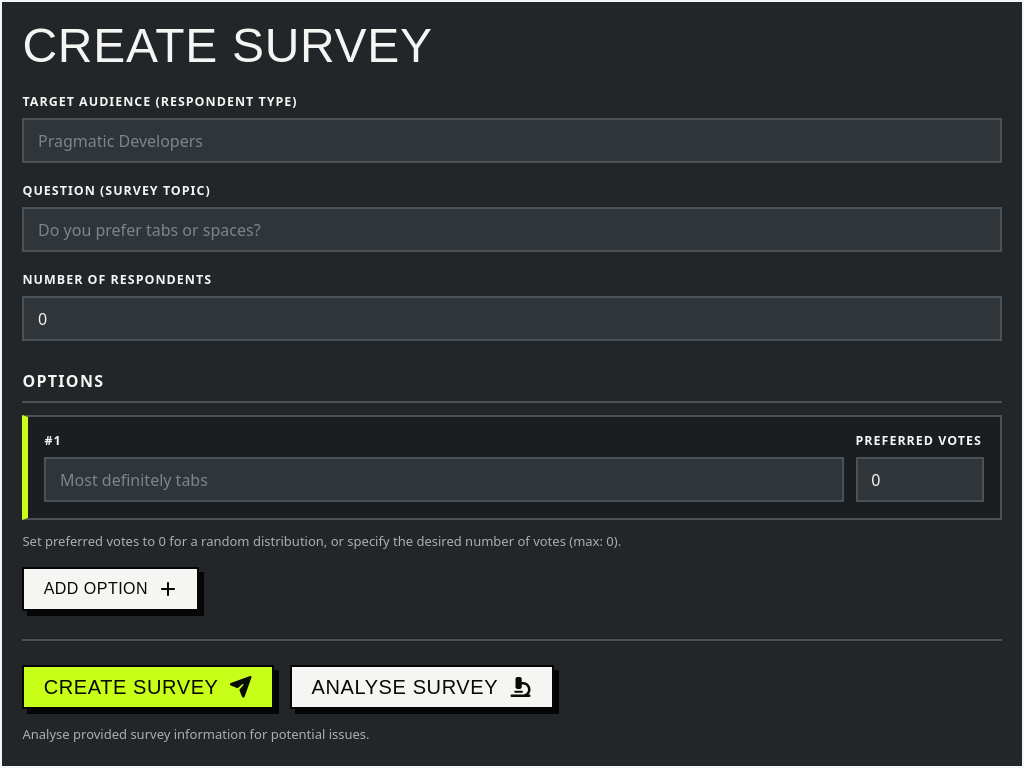
Test: CreateSurvey Component › Form Submission › should show success message on successful submission
The image size is (1024, 768).
Click the button "Create Survey". click: {"x": 148, "y": 687}
box: [22, 665, 274, 709]
(page scrolled)
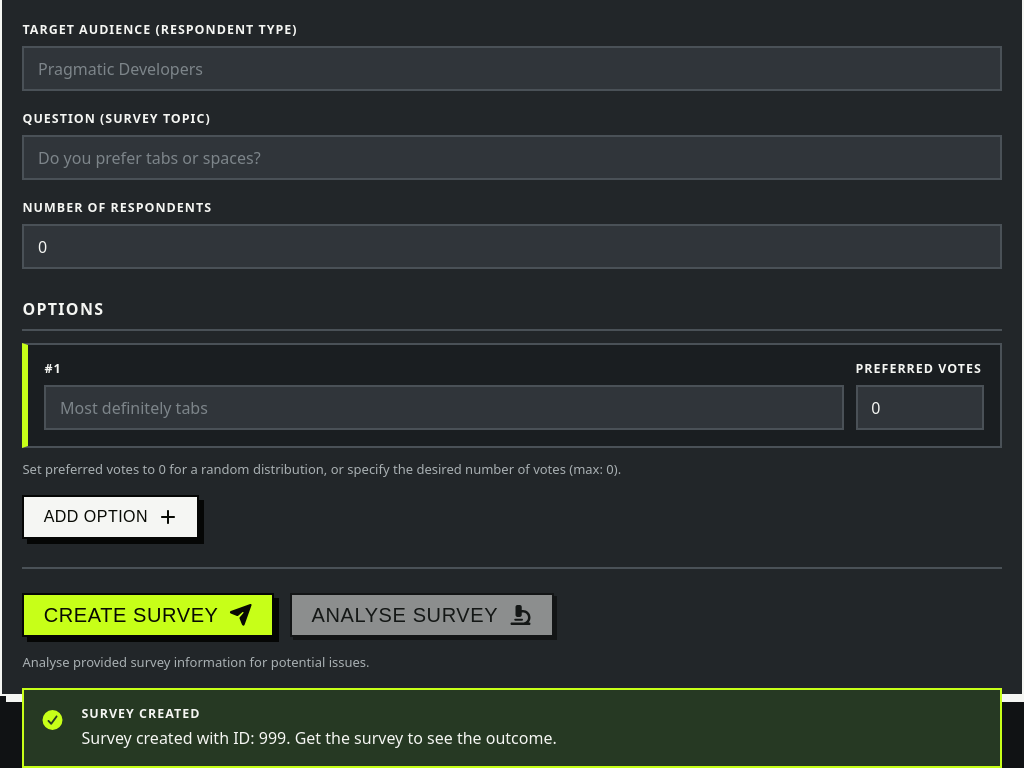
Now the text "Survey created with ID: 999" is shown, box [82, 727, 557, 749]
